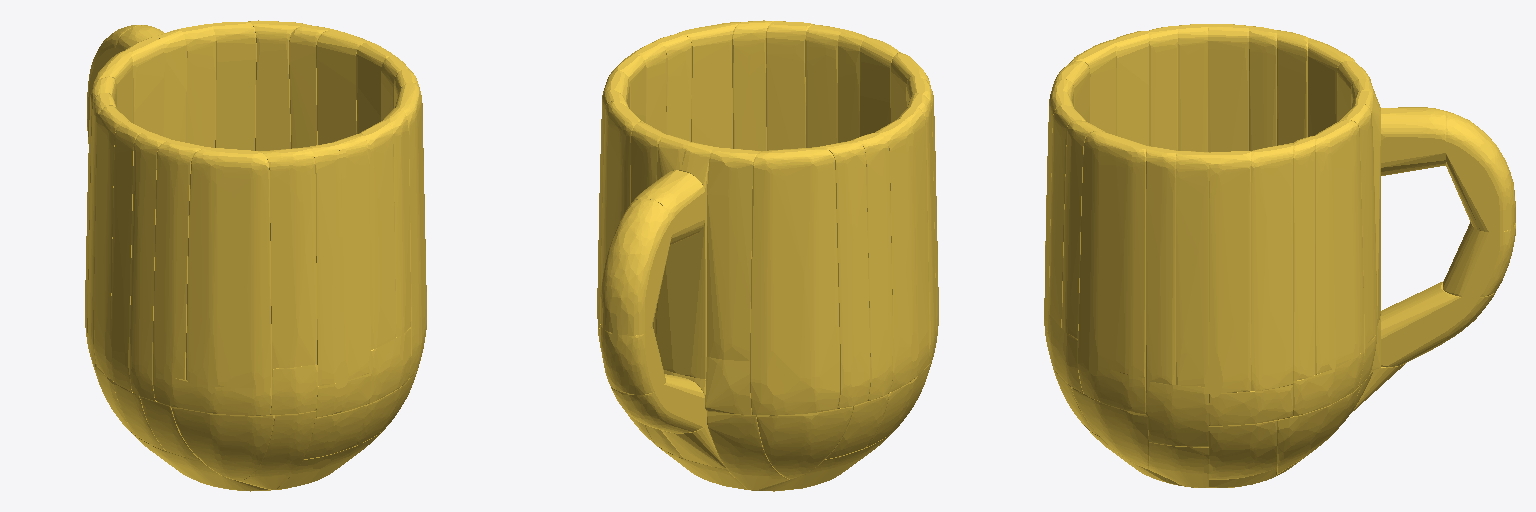
The robot description file, URDF, robot "137.urdf":
<?xml version="1.0" ?>
<robot name="137.urdf">
	<link name="baseLink">
		<inertial>
			<origin rpy="0 0 0" xyz="0 0 0"/>
				<mass value="0.1"/>
				<inertia ixx="6e-5" ixy="0" ixz="0" iyy="6e-5" iyz="0" izz="6e-5"/>
		</inertial>
		<visual>
			<origin rpy="0 0 0" xyz="0 0 0"/>
			<geometry>
				<mesh filename="29_decom_wt.obj" scale="0.91 0.91 1.06"/>
			</geometry>
			<material name="yellow">
				<color rgba="0.98 0.84 0.35 1"/>
			</material>
		</visual>
		<collision>
			<origin rpy="0 0 0" xyz="0 0 0"/>
			<geometry>
				<mesh filename="29_decom_wt.obj" scale="0.91 0.91 1.06"/>
			</geometry>
		</collision>
	</link>
</robot>

--- What the picture shows (computed from the rendered views, not written in the file) ---
The picture shows the robot from 3 angles, left to right: view 1: azimuth 30°, elevation 25°; view 2: azimuth 150°, elevation 25°; view 3: azimuth 270°, elevation 25°; orthographic projection.
Robot: 137.urdf — 1 links, 0 joints (none); root link baseLink; default pose: every joint at zero.
Visible links, largest first — view 1: baseLink; view 2: baseLink; view 3: baseLink.
Boxes of the visible links, <box> form: baseLink: <box>85,20,426,491</box>; baseLink: <box>597,20,938,491</box>; baseLink: <box>1044,24,1515,487</box>.
Size in the robot's own frame: 0.0835 by 0.117 by 0.1001 metres.
Meshes: 1 distinct files referenced, 1 mesh visuals loaded (1 OBJ).